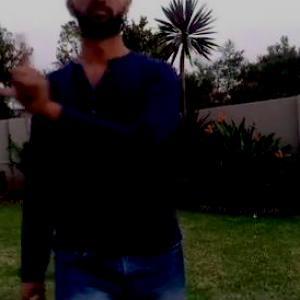land_hand: (1, 30, 63, 118)
